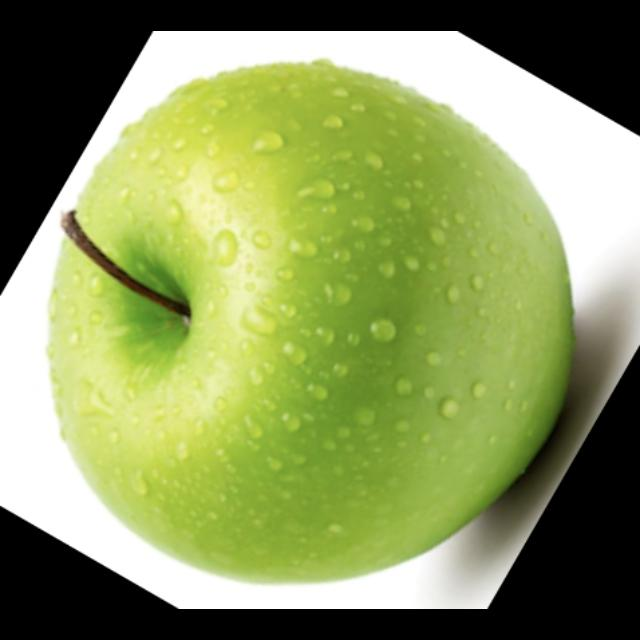Apel Segar: (51, 68, 591, 578)
